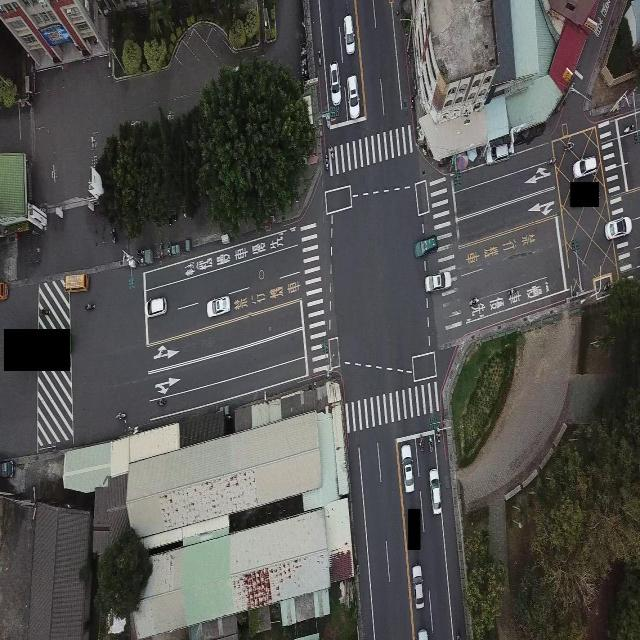bike: (82, 301, 95, 311)
car: (399, 441, 415, 494), (346, 74, 362, 122), (604, 216, 632, 240), (484, 139, 512, 163), (428, 467, 442, 515), (410, 563, 424, 610), (329, 62, 342, 111), (413, 234, 439, 258), (572, 156, 598, 180), (206, 295, 232, 318), (424, 271, 451, 293), (343, 14, 356, 55), (145, 296, 167, 317), (0, 457, 15, 477), (415, 627, 429, 639)
